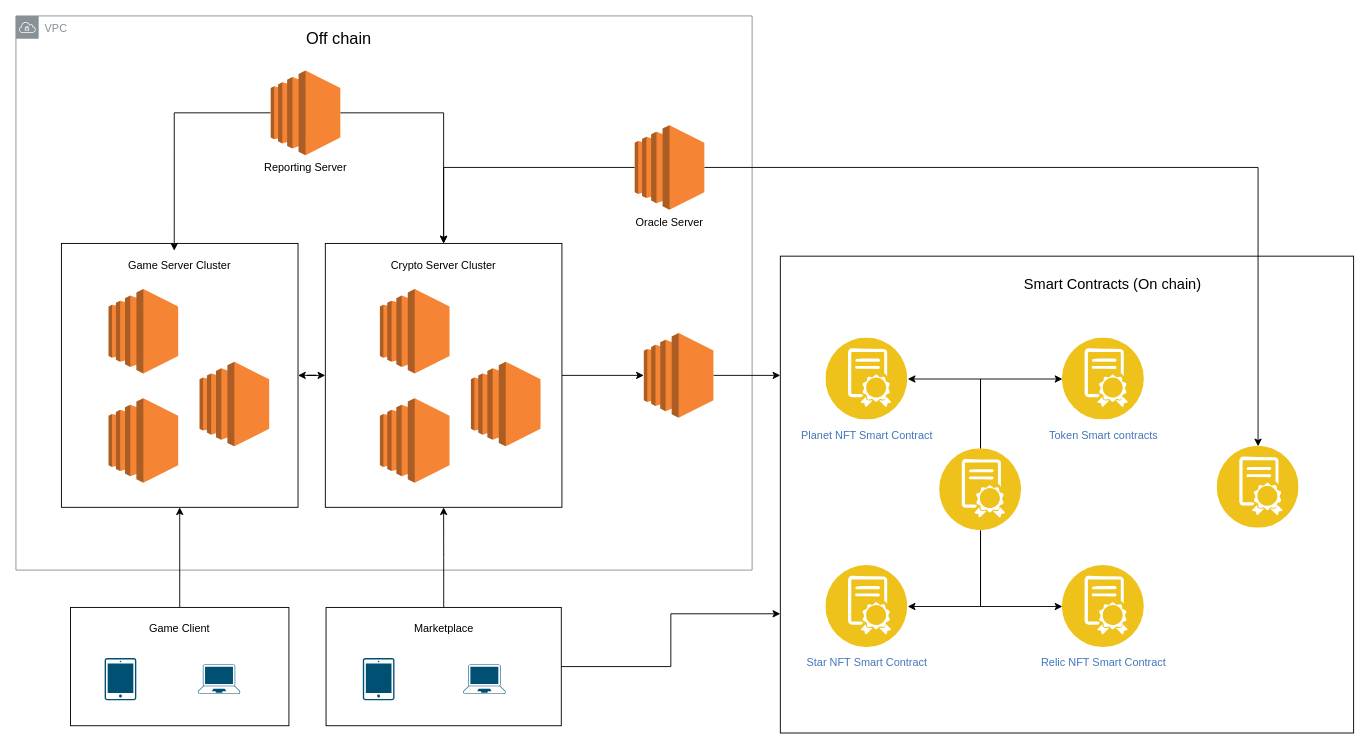
This 1370x749 diagram has some shape labels left out. The shapes that lost their labels are listed below. From the top down, each one's centre as x and y in pixels, then its label:
(x=678, y=375): Chain node
(x=980, y=489): Marketplace Smart Contract
(x=1258, y=487): Oracle Smart Contract
